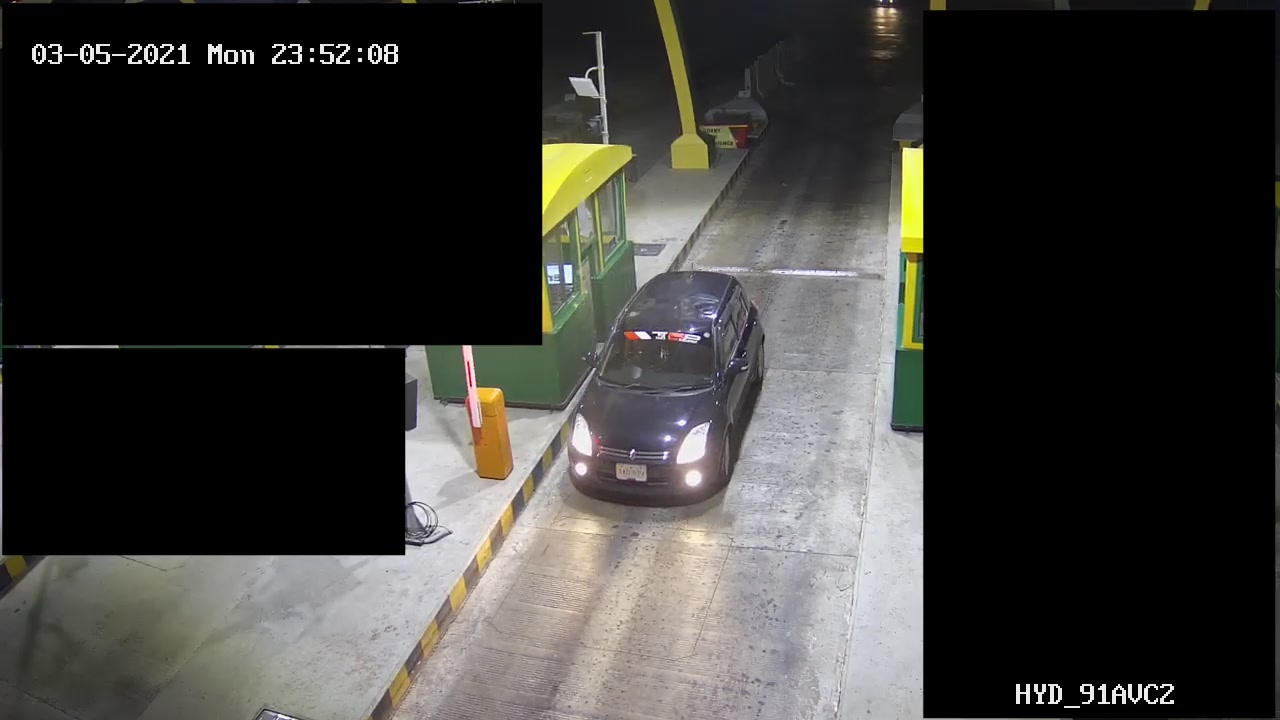F1: (554, 262, 780, 513)
